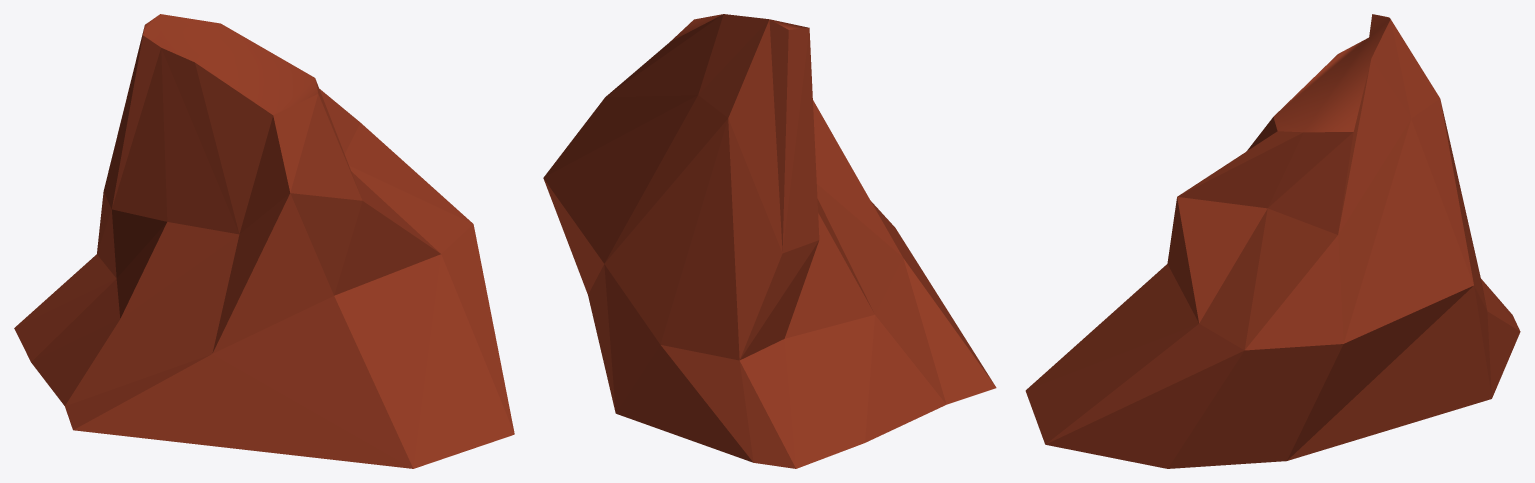
Rendered from mała góra1.FBX.
3 views of the same model, side by side, from view 1: azimuth 30°, elevation 25°; view 2: azimuth 150°, elevation 25°; view 3: azimuth 270°, elevation 25° (orthographic). The views are drawn at different scales.
Parts seen in each view (by area): view 1: Line007; view 2: Line007; view 3: Line007.
Part boxes in pixels (x1,y1,x2,y2): Line007: [14, 14, 514, 468]; Line007: [543, 14, 996, 468]; Line007: [1025, 14, 1520, 468].
Size of the model in its own units: 296 by 248 by 330.
